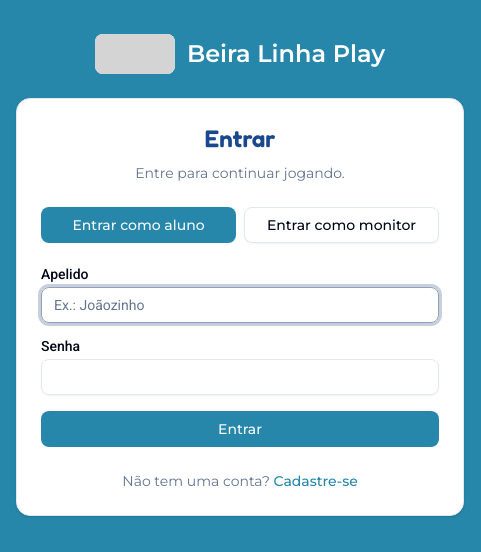
Test: LoginPage › shows an error when student credentials are invalid
This screenshot has width=481, height=552.
Type "Gu" into the field labelled "Apelido".
click(240, 305); type("Gu")  # box [41,287,439,323]
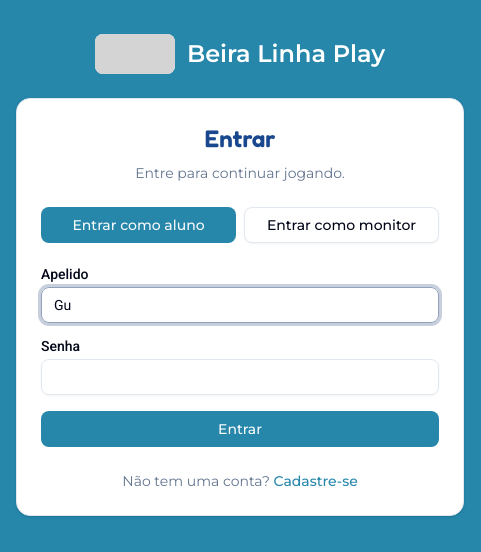
Type "senha-errada" into the password field labelled "Senha".
click(240, 377); type("senha-errada")  # box [41,359,439,395]
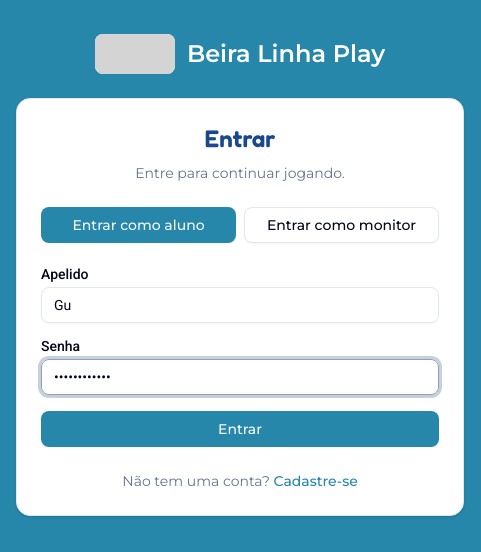
Click the button "Entrar".
click(240, 429)  # box [41,411,439,447]
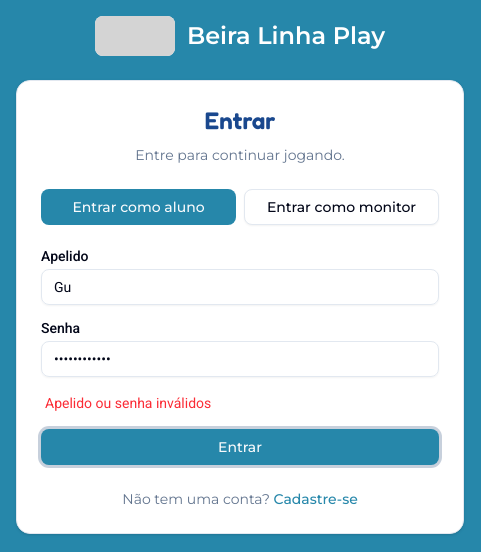
Check: the text "Apelido ou senha inválidos" is shown, box [45,395,211,411]
